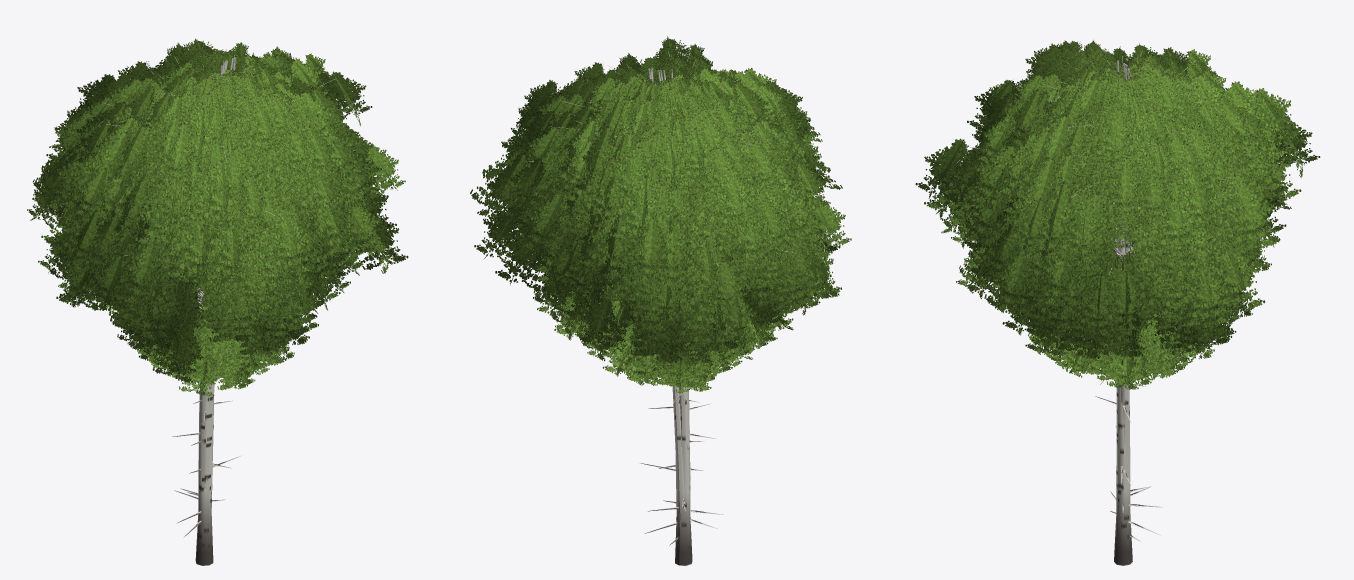
The model's file is tree_birch.glb.
3 renders of one model, left to right at view 1: azimuth 30°, elevation 25°; view 2: azimuth 150°, elevation 25°; view 3: azimuth 270°, elevation 25°, orthographic. The views are drawn at different scales.
Visible parts, largest first — view 1: V4_LOD0, V2_LOD0, V6_LOD0, V7_LOD0, V3_LOD0, V0_LOD0, V1_LOD0, V5_LOD0; view 2: V5_LOD0, V0_LOD0, V2_LOD0, V1_LOD0, V6_LOD0, V3_LOD0, V4_LOD0, V7_LOD0; view 3: V2_LOD0, V5_LOD0, V4_LOD0, V1_LOD0, V0_LOD0, V6_LOD0, V7_LOD0, V3_LOD0.
Part boxes in pixels (left/top/right/bottom): V4_LOD0: left=48, top=54, right=408, bottom=565; V2_LOD0: left=27, top=42, right=374, bottom=565; V6_LOD0: left=56, top=38, right=396, bottom=565; V7_LOD0: left=41, top=44, right=365, bottom=565; V3_LOD0: left=38, top=51, right=368, bottom=564; V0_LOD0: left=32, top=50, right=405, bottom=565; V1_LOD0: left=49, top=42, right=380, bottom=565; V5_LOD0: left=33, top=44, right=396, bottom=565; V5_LOD0: left=495, top=59, right=820, bottom=565; V0_LOD0: left=470, top=61, right=841, bottom=565; V2_LOD0: left=494, top=57, right=810, bottom=565; V1_LOD0: left=506, top=53, right=831, bottom=565; V6_LOD0: left=492, top=36, right=842, bottom=565; V3_LOD0: left=517, top=56, right=830, bottom=564; V4_LOD0: left=474, top=54, right=851, bottom=565; V7_LOD0: left=526, top=44, right=834, bottom=565; V2_LOD0: left=915, top=43, right=1292, bottom=565; V5_LOD0: left=956, top=40, right=1307, bottom=565; V4_LOD0: left=949, top=50, right=1301, bottom=564; V1_LOD0: left=964, top=46, right=1320, bottom=563; V0_LOD0: left=964, top=41, right=1279, bottom=565; V6_LOD0: left=929, top=40, right=1296, bottom=565; V7_LOD0: left=967, top=46, right=1287, bottom=565; V3_LOD0: left=941, top=43, right=1289, bottom=564.
Size of what is drawn, in the model's own units: 10.72 by 14.78 by 11.39.
2 materials, 2 textured.
